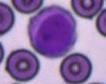M: (28, 5, 78, 58)
